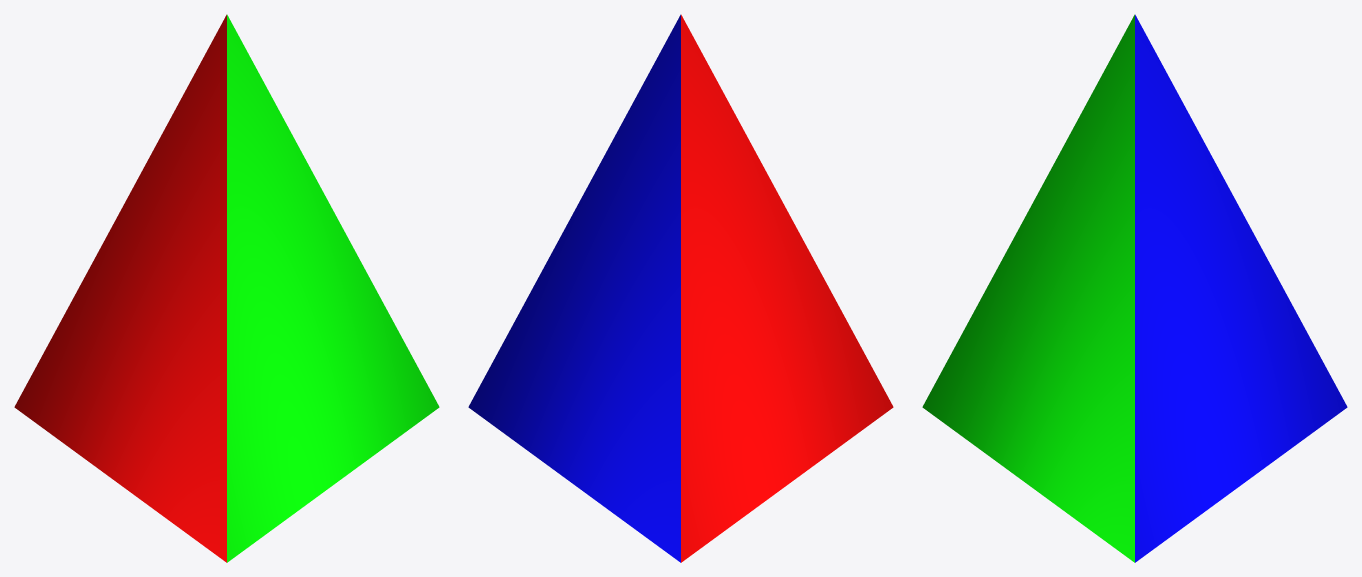
3 views of the same model, side by side, from view 1: azimuth 30°, elevation 25°; view 2: azimuth 150°, elevation 25°; view 3: azimuth 270°, elevation 25° (orthographic).
Visible parts, largest first — view 1: Cone001; view 2: Cone001; view 3: Cone001.
Boxes of the visible parts, x1,y1,x2,y2 form: Cone001: [14, 14, 439, 562]; Cone001: [468, 14, 893, 562]; Cone001: [922, 14, 1347, 562].
Bounding box in the file's own units: 375 × 433 × 500.
